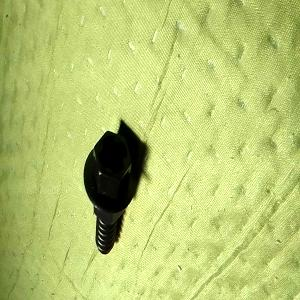parafuso: (84, 131, 136, 255)
